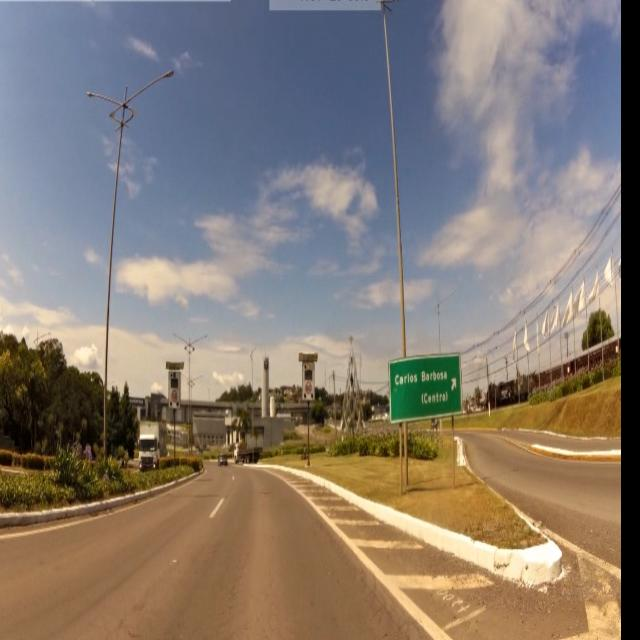I-4: (389, 349, 469, 424)
